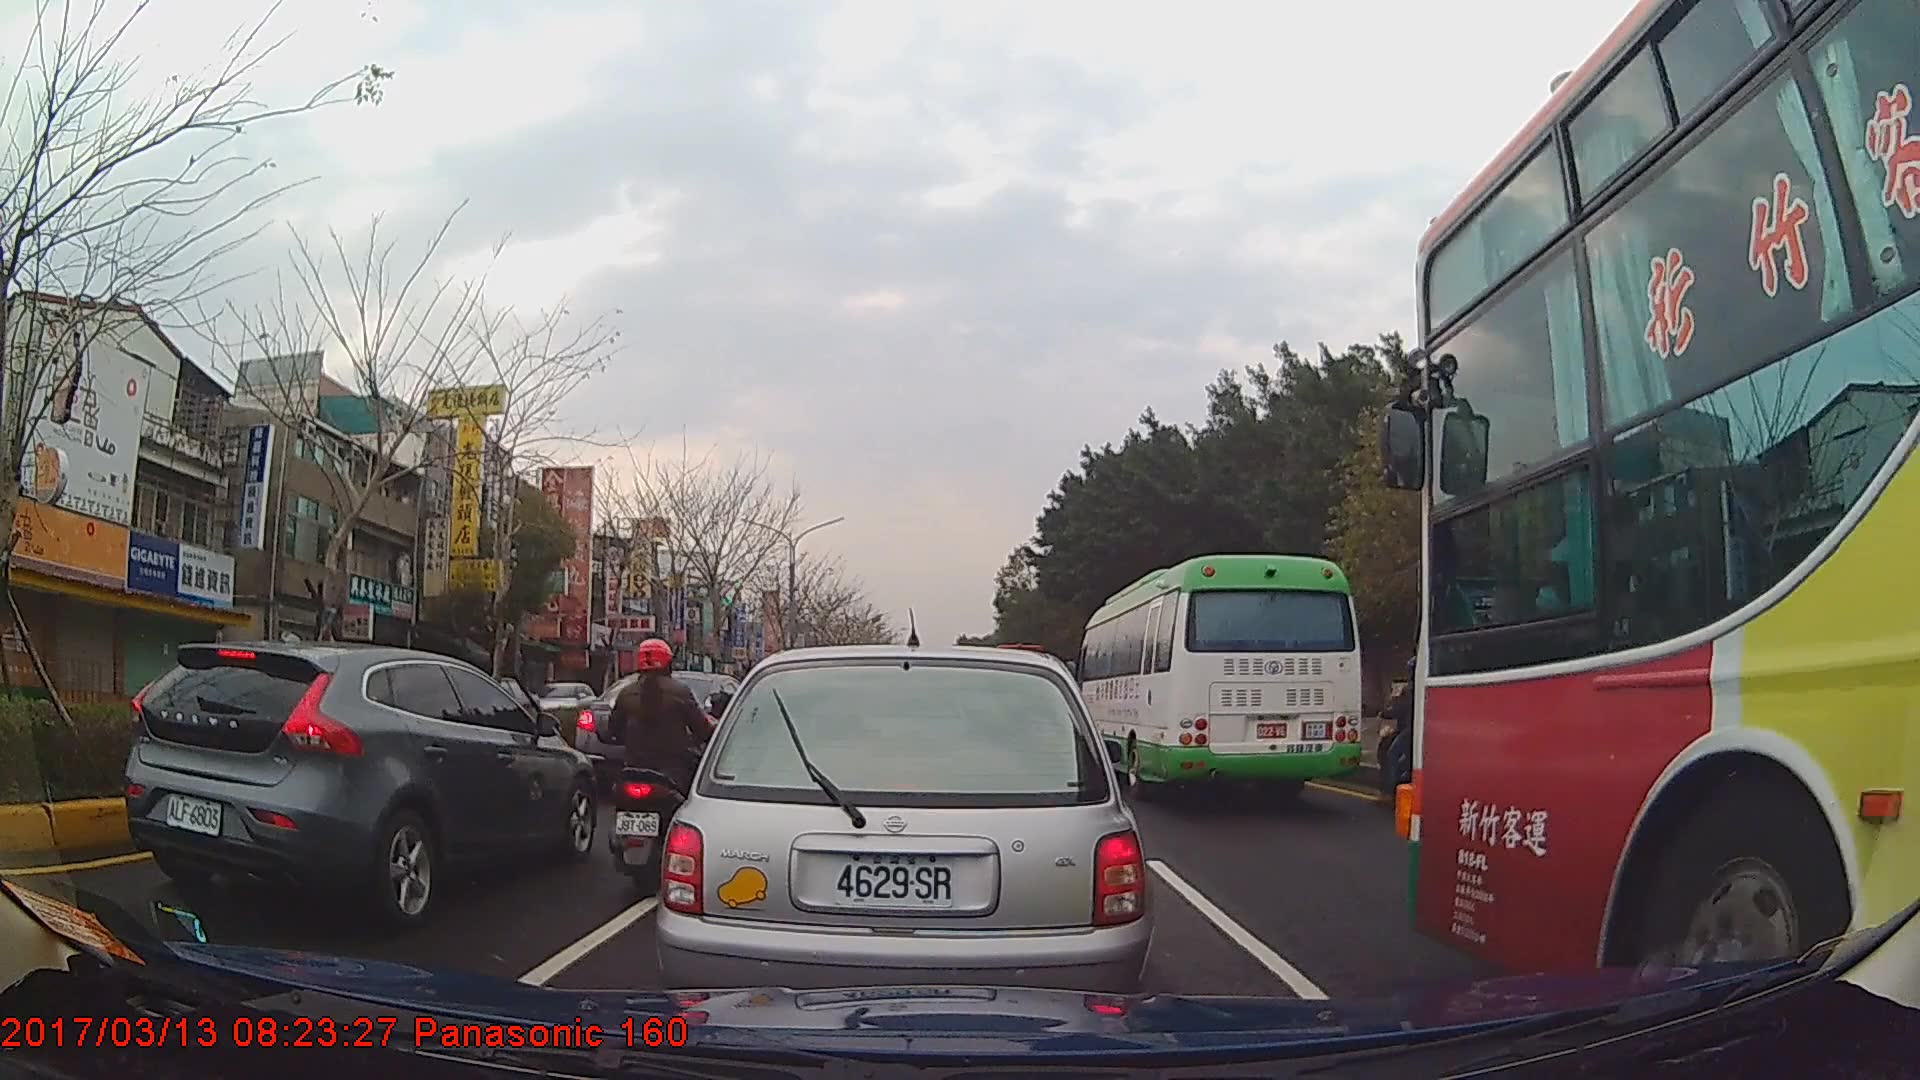rider: (605, 634, 723, 886)
vehicle: (1409, 0, 1920, 1023), (651, 640, 1154, 1032), (123, 640, 595, 927), (1073, 551, 1361, 802), (576, 668, 760, 787), (530, 681, 596, 726)
